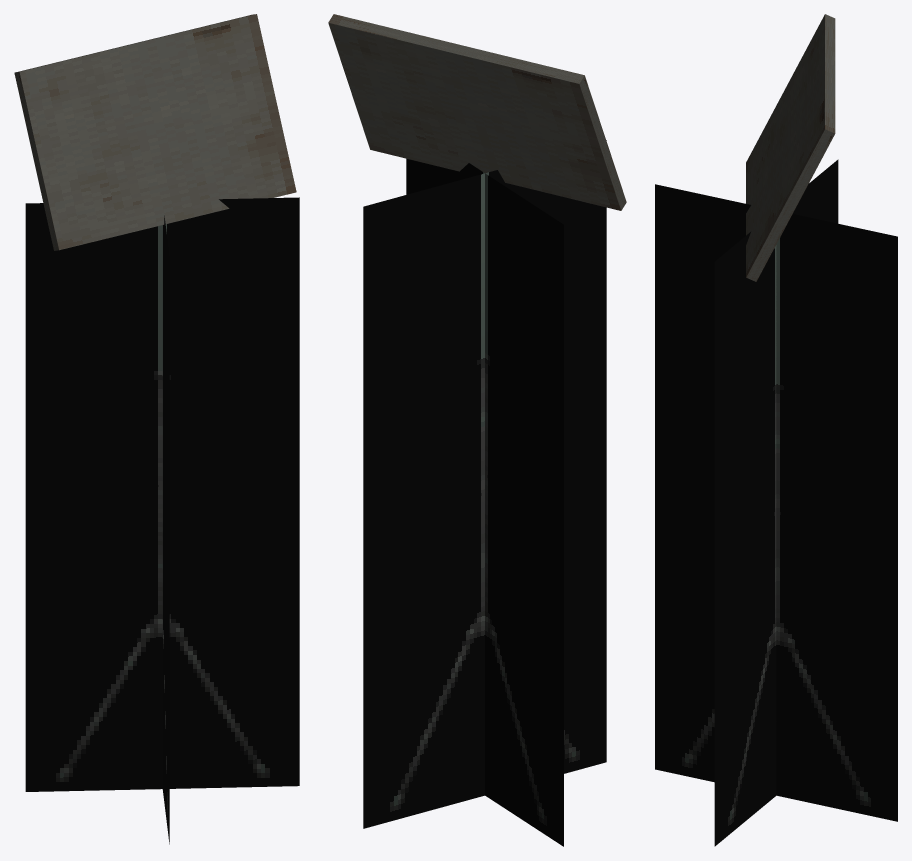
The model's file is prop_musicstand-0.glb.
The picture shows the model from 3 angles, left to right: view 1: azimuth 30°, elevation 25°; view 2: azimuth 150°, elevation 25°; view 3: azimuth 270°, elevation 25°; orthographic projection. The views are drawn at different scales.
Parts seen in each view (by area): view 1: prop_musicstand-0; view 2: prop_musicstand-0; view 3: prop_musicstand-0.
Part boxes in pixels (box(x1,y1,x2,y2)): prop_musicstand-0: box(14, 14, 299, 844); prop_musicstand-0: box(328, 14, 626, 846); prop_musicstand-0: box(655, 14, 897, 846).
Bounding box in the file's own units: 0.48 × 1.41 × 0.4275.
2 materials, 2 textured.
